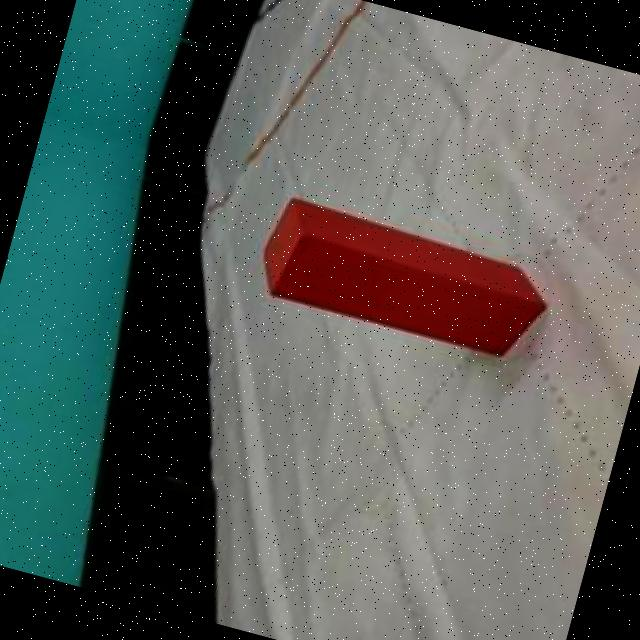redbox: (248, 192, 554, 369)
